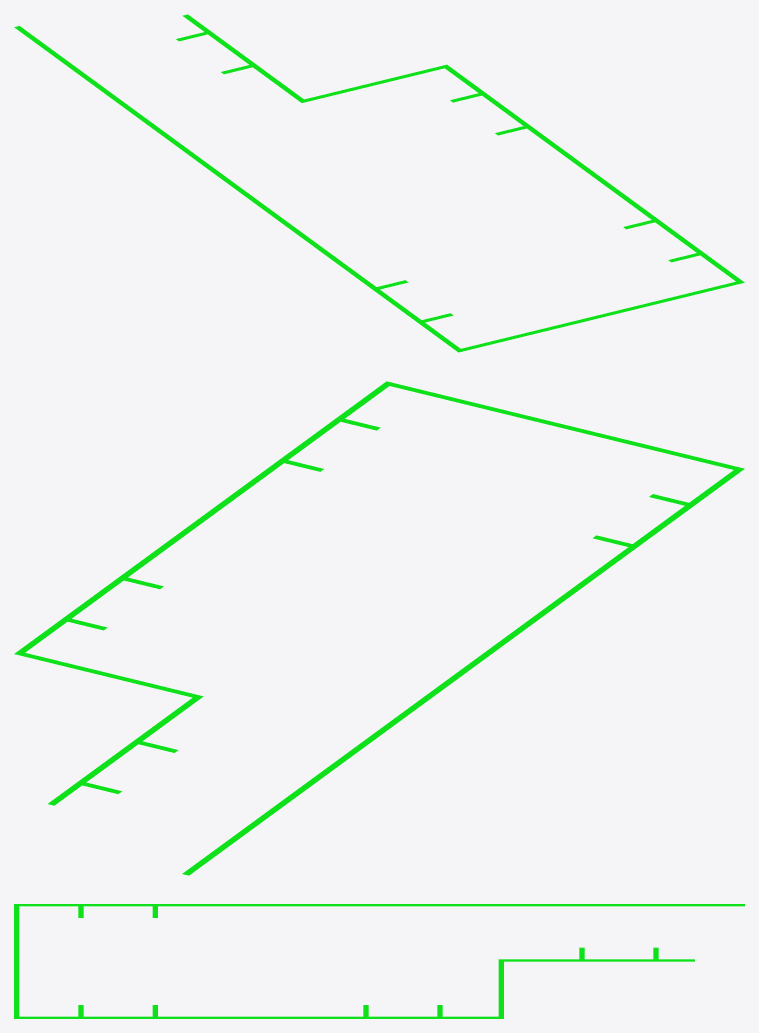
File: DemoPath2.glb
3 views of the same model, one above another, from view 1: azimuth 30°, elevation 25°; view 2: azimuth 150°, elevation 25°; view 3: azimuth 270°, elevation 25° (orthographic). The views are drawn at different scales.
Visible parts, largest first — view 1: DemoPath2; view 2: DemoPath2; view 3: DemoPath2.
Part boxes in pixels (<box>): DemoPath2: <box>14,14,744,352</box>; DemoPath2: <box>14,381,744,875</box>; DemoPath2: <box>14,904,744,1018</box>.
Size of the model in its own units: 20.19 by 0 by 54.25.
